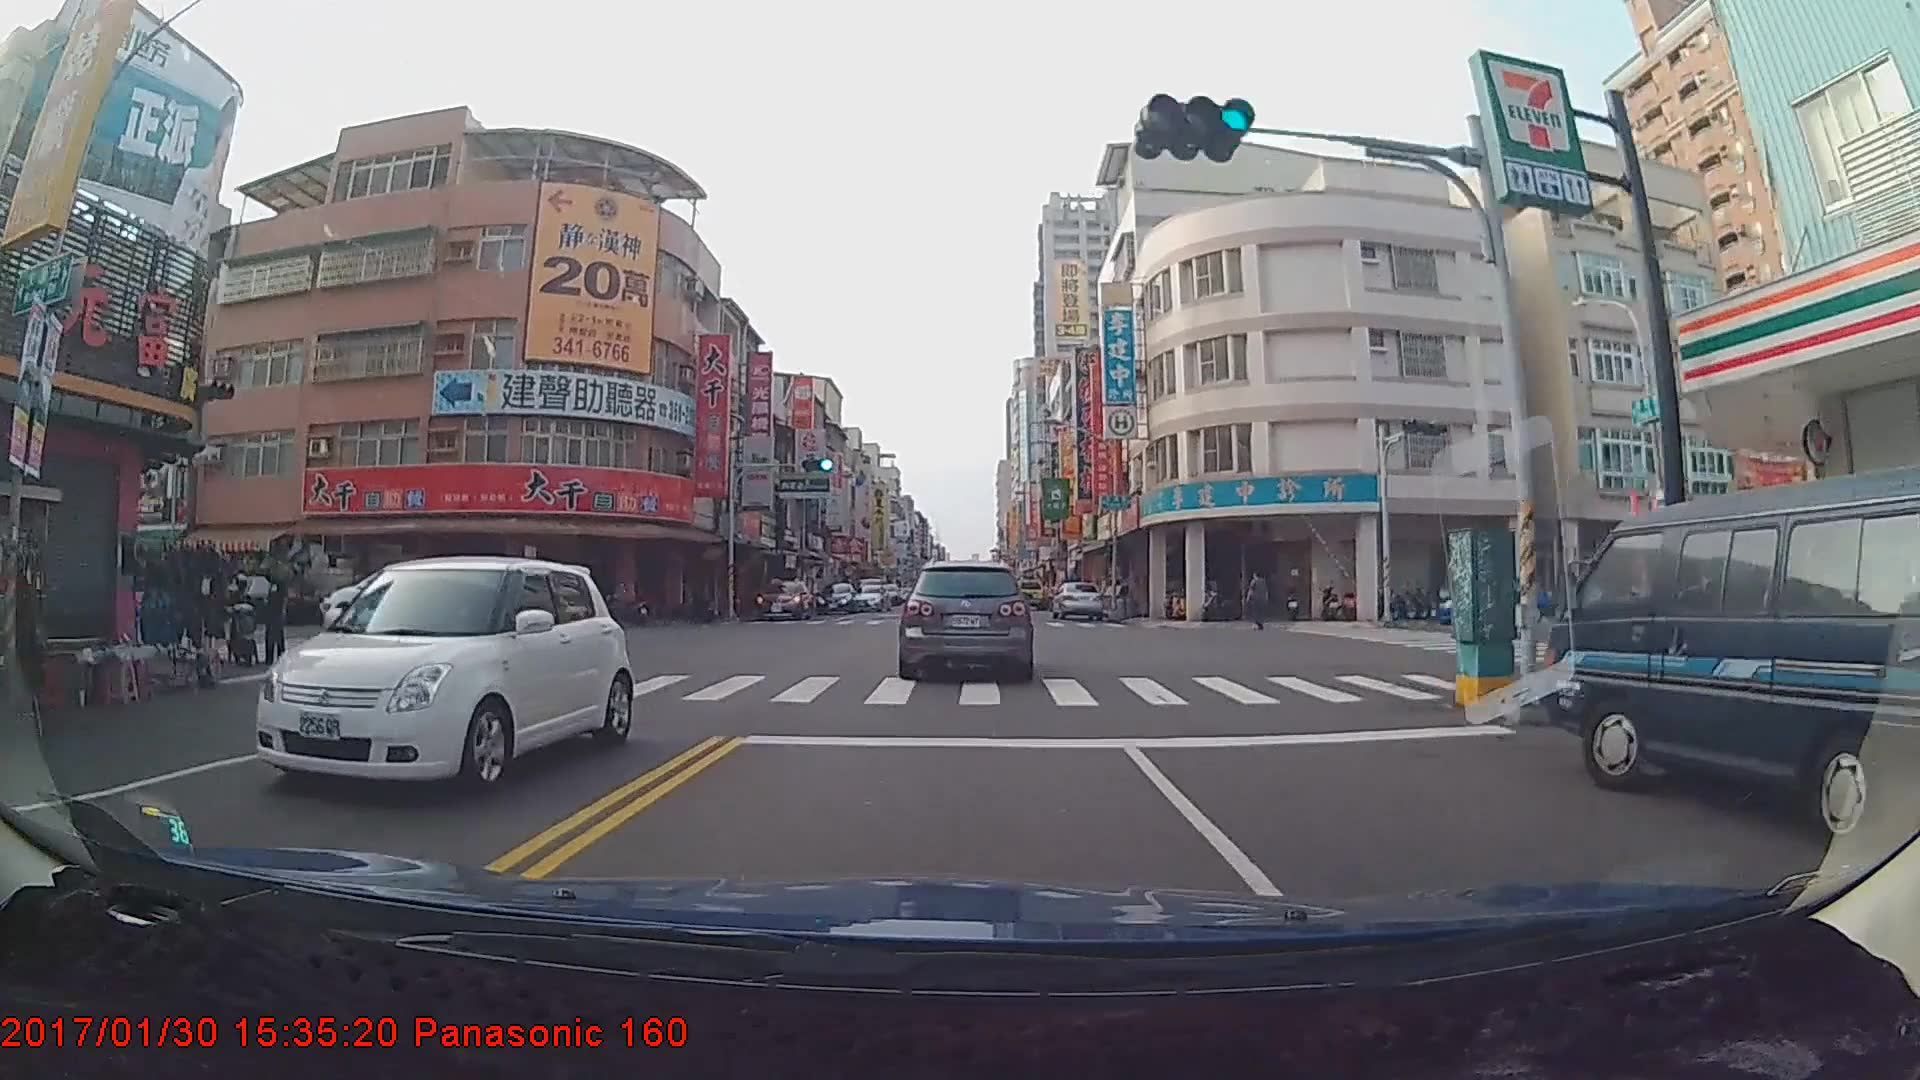pedestrian: (263, 576, 288, 670), (1246, 571, 1273, 634)
rider: (221, 564, 261, 673)
vehicle: (1539, 474, 1920, 852), (251, 547, 637, 799), (900, 561, 1034, 682), (757, 576, 810, 621), (1051, 579, 1105, 621), (814, 582, 857, 614), (1009, 581, 1045, 616), (848, 585, 889, 614)
